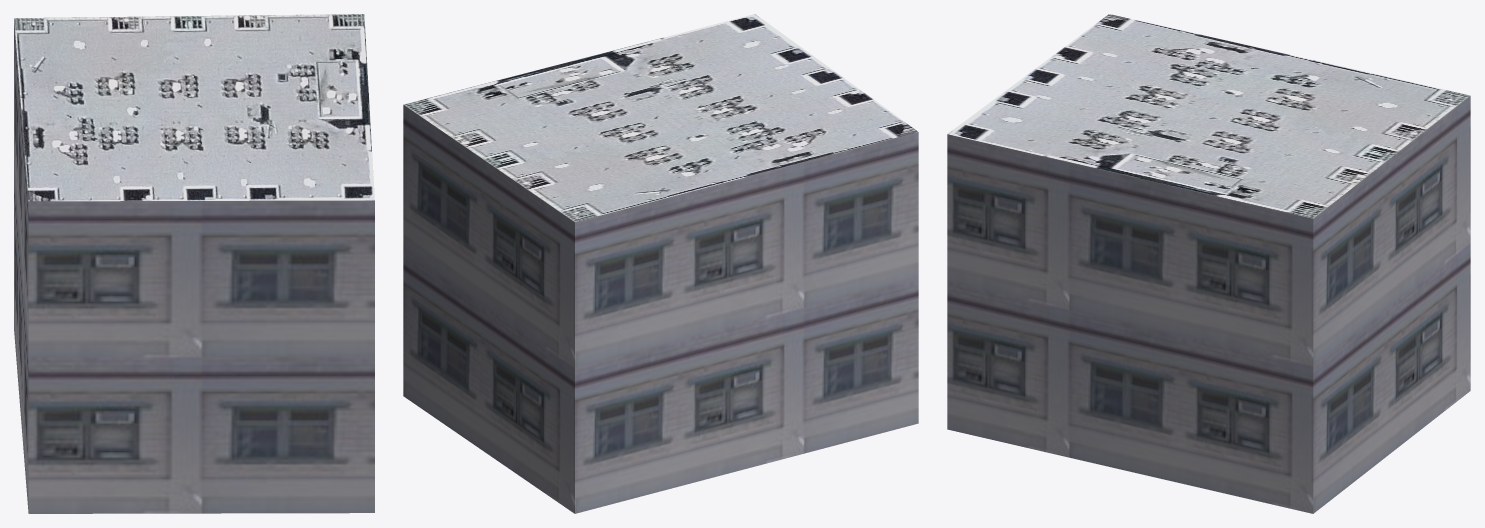
File: ResTex__1135.fbx
3 views of the same model, side by side, from view 1: azimuth 30°, elevation 25°; view 2: azimuth 150°, elevation 25°; view 3: azimuth 270°, elevation 25° (orthographic). The views are drawn at different scales.
Visible parts, largest first — view 1: CityEngineMaterial_1_m, CityEngineMaterial_2_m; view 2: CityEngineMaterial_1_m, CityEngineMaterial_2_m; view 3: CityEngineMaterial_1_m, CityEngineMaterial_2_m.
Part boxes in pixels (left/top/right/bottom): CityEngineMaterial_1_m: left=14, top=19, right=374, bottom=513; CityEngineMaterial_2_m: left=14, top=14, right=374, bottom=201; CityEngineMaterial_1_m: left=403, top=105, right=918, bottom=513; CityEngineMaterial_2_m: left=403, top=14, right=918, bottom=221; CityEngineMaterial_1_m: left=947, top=96, right=1470, bottom=513; CityEngineMaterial_2_m: left=947, top=14, right=1470, bottom=218.
Size of the model in its own units: 8.92 by 6 by 9.64.
2 materials, 2 textured.
